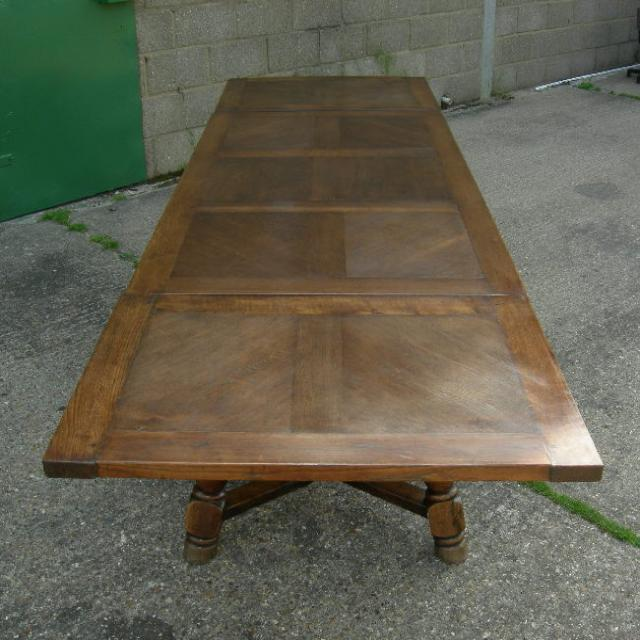table: (41, 75, 610, 564)
